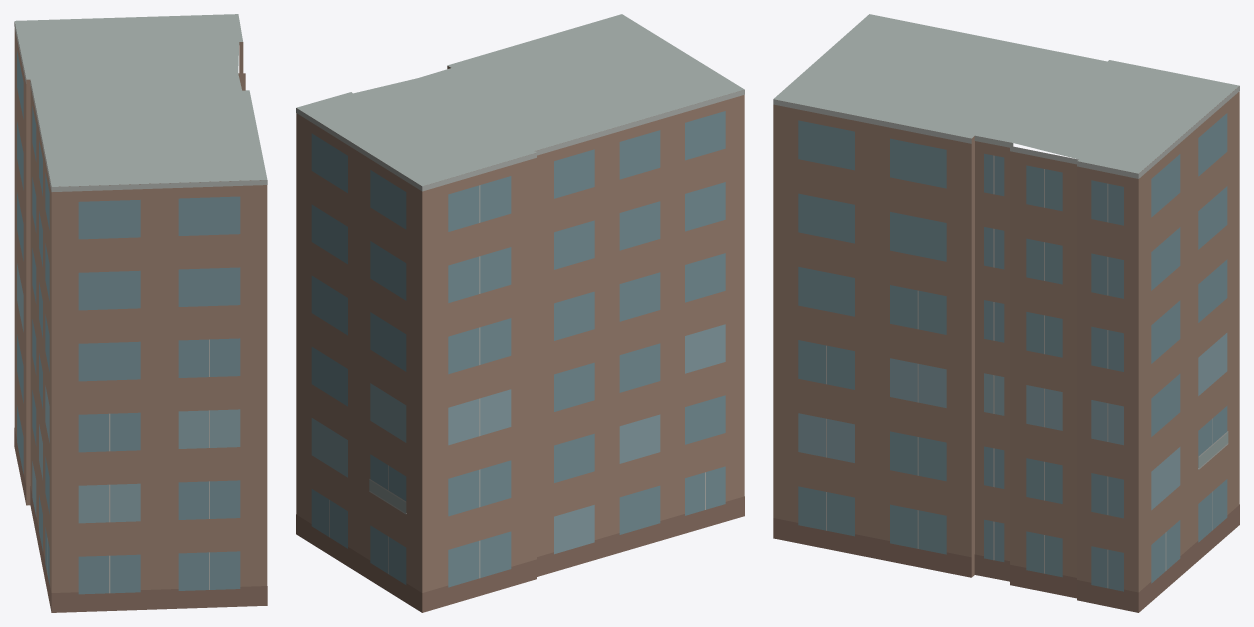
Rendered from survey-upis-32770459.glb.
The picture shows the model from 3 angles, left to right: view 1: azimuth 30°, elevation 25°; view 2: azimuth 150°, elevation 25°; view 3: azimuth 270°, elevation 25°; orthographic projection. The views are drawn at different scales.
Parts seen in each view (by area): view 1: survey-upis-32770459.tmp; view 2: survey-upis-32770459.tmp; view 3: survey-upis-32770459.tmp.
Boxes of the visible parts, x1,y1,x2,y2 form: survey-upis-32770459.tmp: (14, 14, 267, 612); survey-upis-32770459.tmp: (296, 14, 744, 612); survey-upis-32770459.tmp: (773, 14, 1239, 612).
Size of the model in its own units: 15.76 by 20.2 by 19.46.
